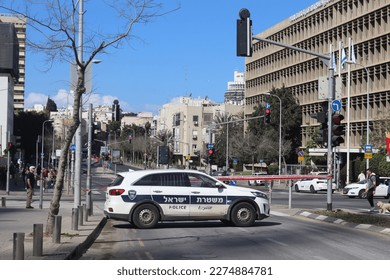Car: (99, 169, 276, 231)
